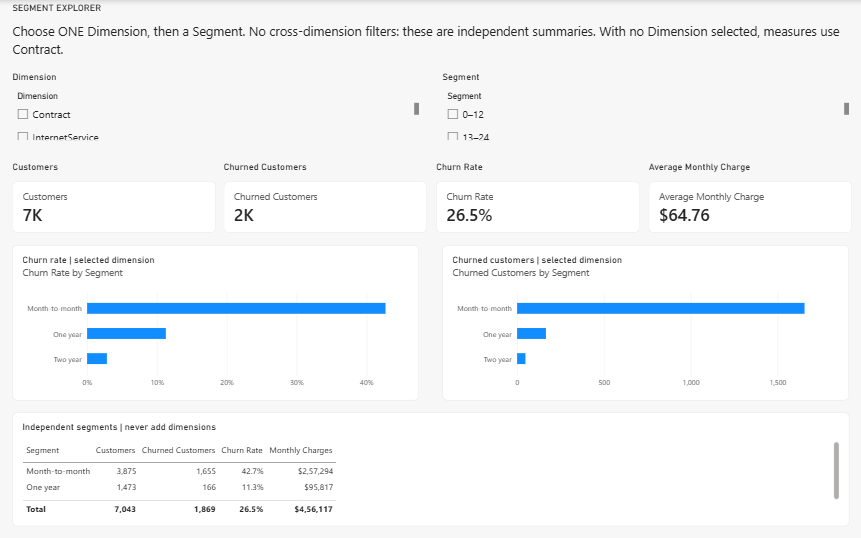

This screenshot's page, from the dashboard's own definition file:
{"tool":"powerbi","page":{"name":"Churn | Segment explorer","canvas":[1440,900],"ordinal":1},"visuals":[{"type":"textbox","title":"SEGMENT EXPLORER","box":[20,5,1400,100],"z":10},{"type":"slicer","title":"Dimension","fields":{"Values":["ChurnSegments.Dimension"]},"box":[20,120,680,115],"z":11},{"type":"slicer","title":"Segment","fields":{"Values":["ChurnSegments.Segment"]},"box":[740,120,680,115],"z":12},{"type":"cardVisual","title":"Customers","fields":{"Data":["ChurnSegments.Customers"]},"box":[20,270,340,120],"z":13},{"type":"cardVisual","title":"Churned Customers","fields":{"Data":["ChurnSegments.Churned Customers"]},"box":[375,270,340,120],"z":14},{"type":"cardVisual","title":"Churn Rate","fields":{"Data":["ChurnSegments.Churn Rate"]},"box":[730,270,340,120],"z":15},{"type":"cardVisual","title":"Average Monthly Charge","fields":{"Data":["ChurnSegments.Average Monthly Charge"]},"box":[1085,270,340,120],"z":16},{"type":"clusteredBarChart","title":"Churn rate | selected dimension","fields":{"Category":["ChurnSegments.Segment"],"Y":["ChurnSegments.Churn Rate"]},"box":[20,410,680,260],"z":17},{"type":"clusteredBarChart","title":"Churned customers | selected dimension","fields":{"Category":["ChurnSegments.Segment"],"Y":["ChurnSegments.Churned Customers"]},"box":[740,410,680,260],"z":18},{"type":"tableEx","title":"Independent segments | never add dimensions","fields":{"Values":["ChurnSegments.Segment","ChurnSegments.Customers","ChurnSegments.Churned Customers","ChurnSegments.Churn Rate","ChurnSegments.Monthly Charges"]},"box":[20,690,1400,190],"z":19}]}

Visuals, with their boxes in screenshot pixels (x1, y1, x2, y2), scaled from the page's 1440x900 canvas onto the 861x538 screenshot:
"SEGMENT EXPLORER" textbox: 12, 3, 849, 63
"Dimension" slicer: 12, 72, 419, 140
"Segment" slicer: 442, 72, 849, 140
"Customers" cardVisual: 12, 161, 215, 233
"Churned Customers" cardVisual: 224, 161, 428, 233
"Churn Rate" cardVisual: 436, 161, 640, 233
"Average Monthly Charge" cardVisual: 649, 161, 852, 233
"Churn rate | selected dimension" clusteredBarChart: 12, 245, 419, 401
"Churned customers | selected dimension" clusteredBarChart: 442, 245, 849, 401
"Independent segments | never add dimensions" tableEx: 12, 412, 849, 526
